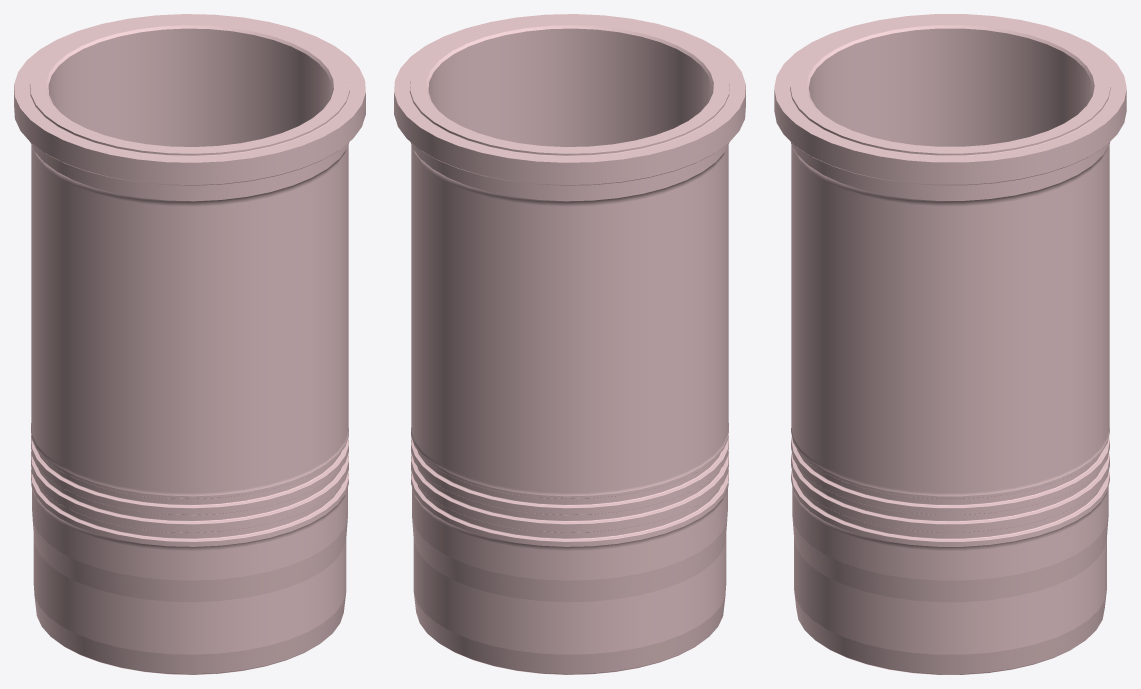
File: gangtao.glb
3 views of the same model, side by side, from view 1: azimuth 30°, elevation 25°; view 2: azimuth 150°, elevation 25°; view 3: azimuth 270°, elevation 25° (orthographic).
Parts seen in each view (by area): view 1: liner; view 2: liner; view 3: liner.
Boxes of the visible parts, x1,y1,x2,y2 form: liner: [14, 14, 365, 674]; liner: [394, 14, 745, 674]; liner: [774, 14, 1126, 674].
Size of the model in its own units: 12.41 by 20.46 by 12.45.
